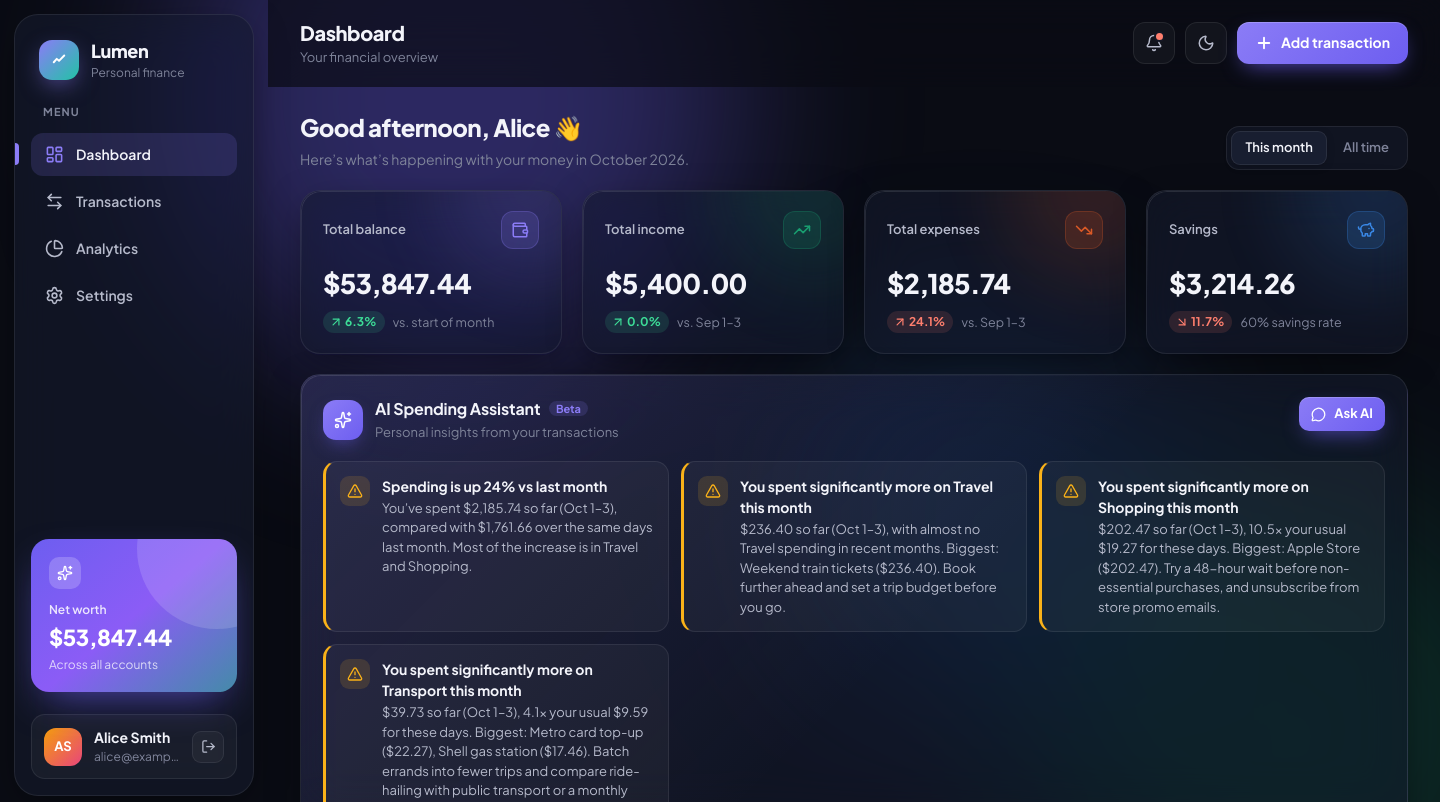
Add transaction › opens a form with every field
The image size is (1440, 802).
Click the button "Add transaction" at (1322, 43), box [1237,22,1408,64]
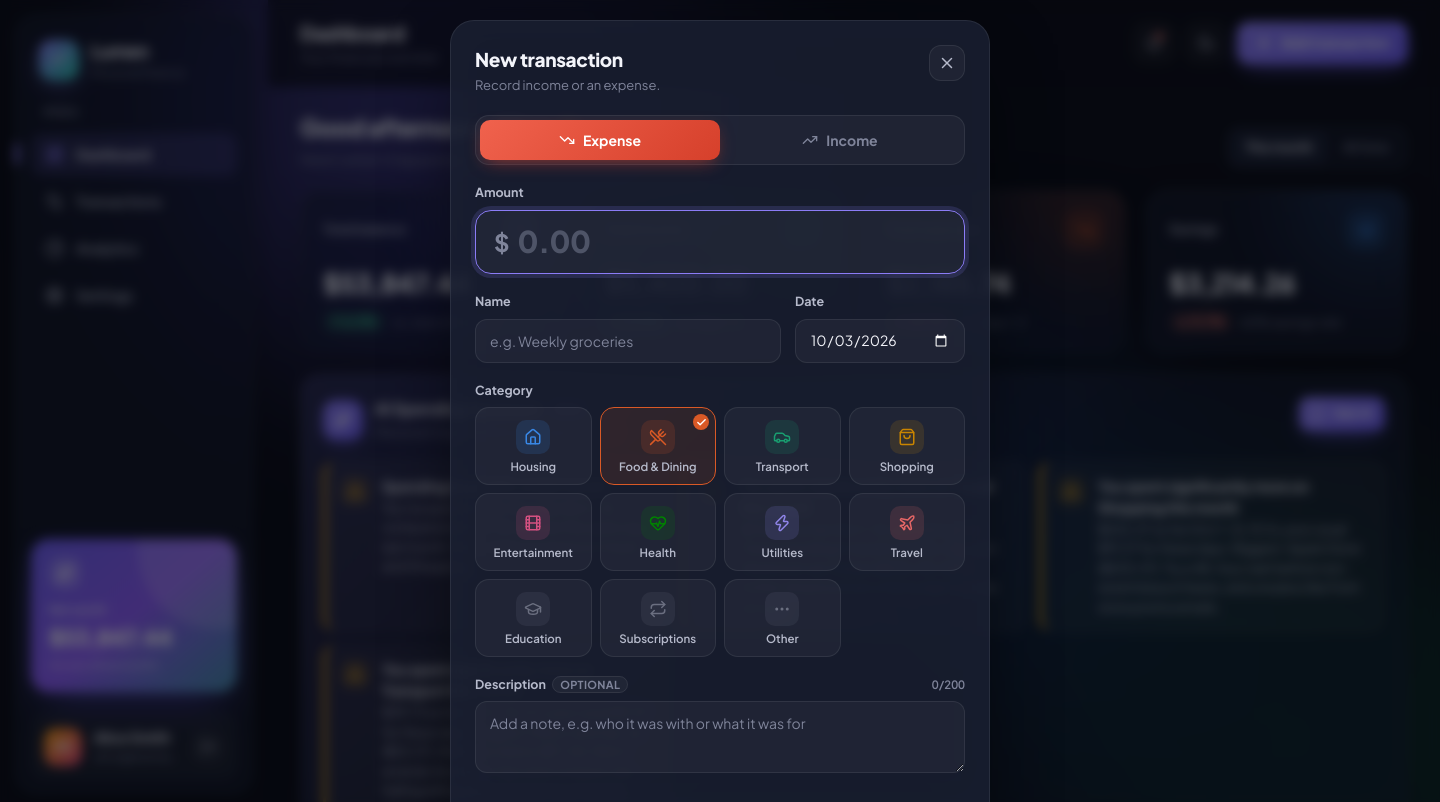
Now the heading "New transaction" is shown, box [475,47,623,71]
Now the radio button labelled "Expense" is shown, box [480,120,720,160]
Now the radio button labelled "Income" is shown, box [720,120,960,160]
